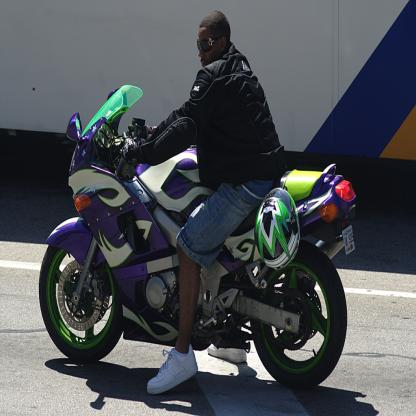Helmet: (248, 202, 302, 277)
